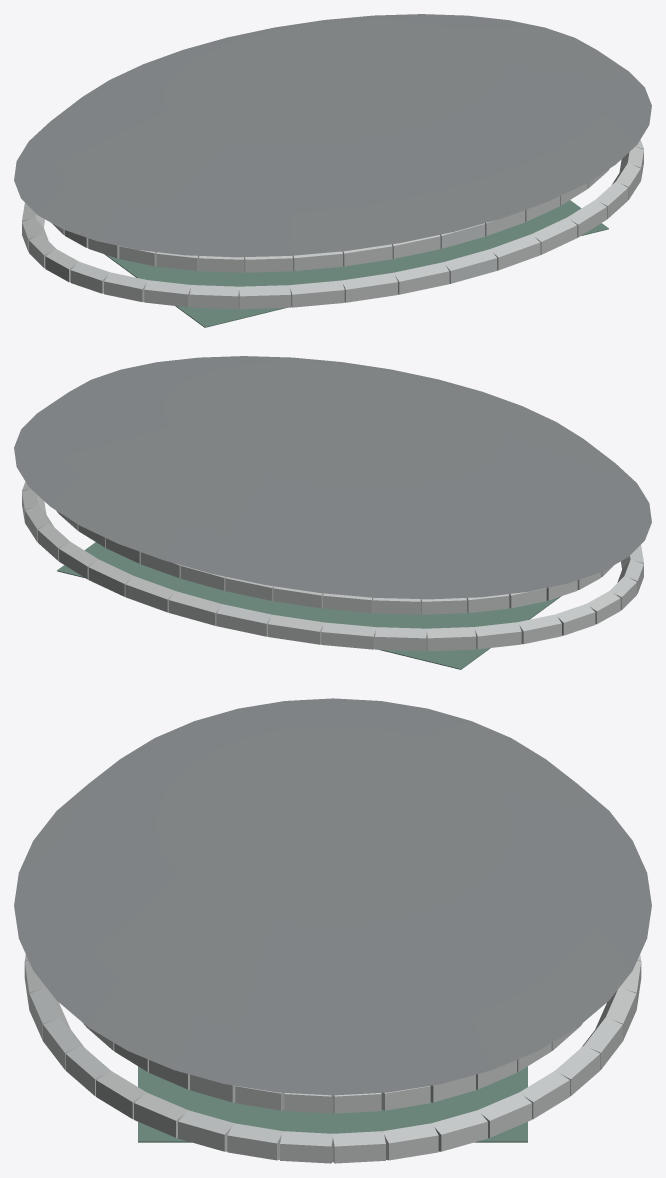
File: source.glb
The picture shows the model from 3 angles, top to bottom: view 1: azimuth 30°, elevation 25°; view 2: azimuth 150°, elevation 25°; view 3: azimuth 270°, elevation 25°; orthographic projection. The views are drawn at different scales.
Visible parts, largest first — view 1: worldgen; view 2: worldgen; view 3: worldgen.
Boxes of the visible parts, x1=… form: worldgen: x1=14, y1=14, x2=651, y2=327; worldgen: x1=14, y1=356, x2=651, y2=669; worldgen: x1=14, y1=698, x2=651, y2=1163.
Bounding box in the file's own units: 152 × 35 × 108.
